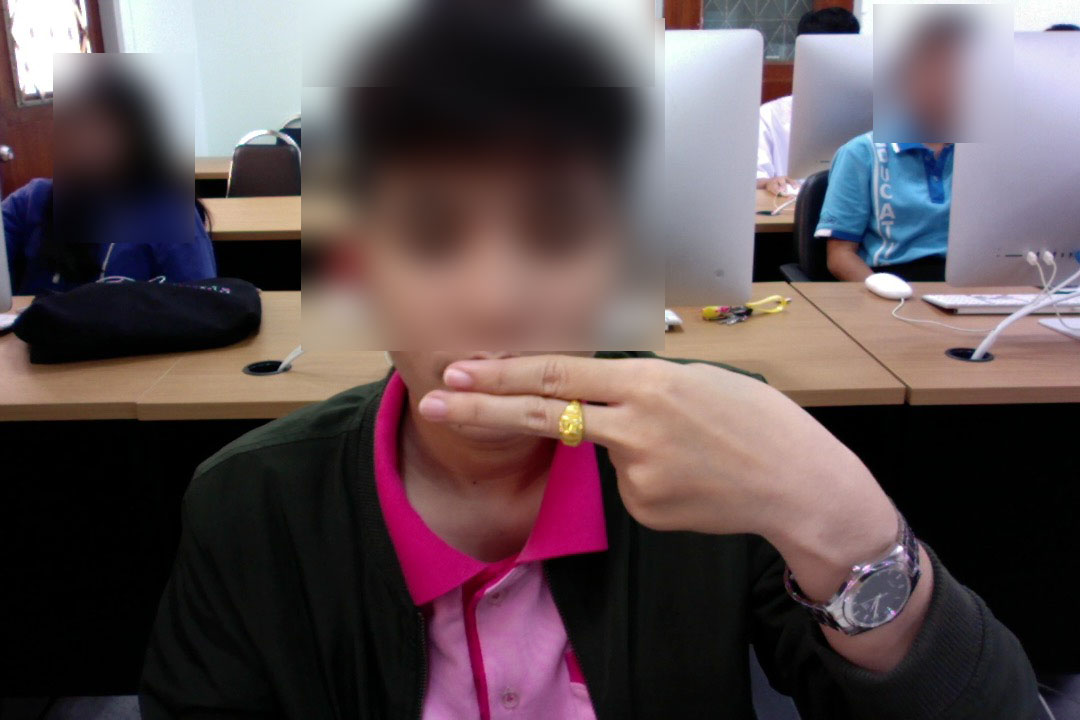hor: (405, 345, 895, 544)
